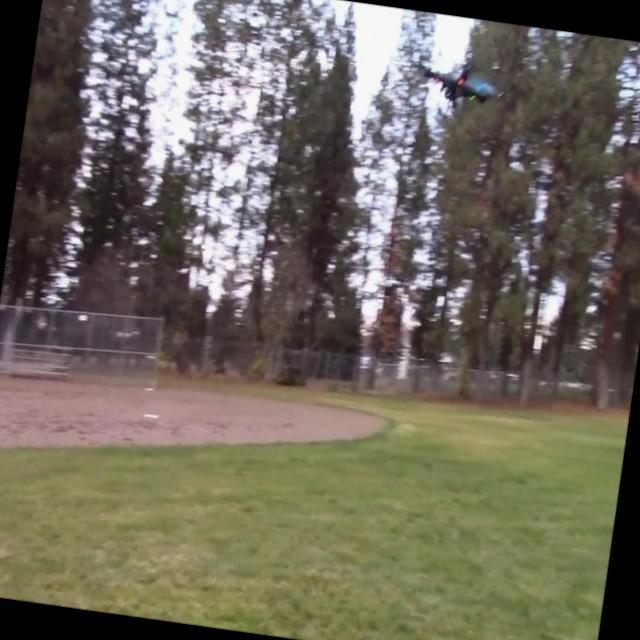drone: (408, 52, 512, 126)
